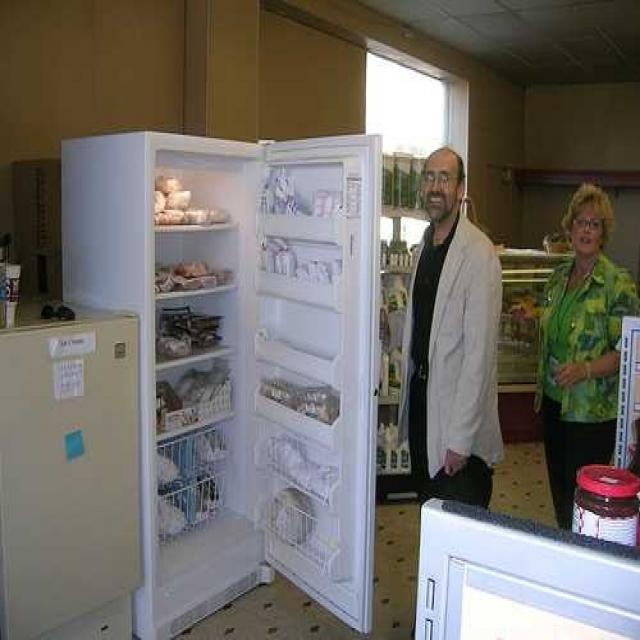refrigerator: (144, 132, 348, 596), (1, 321, 144, 637)
